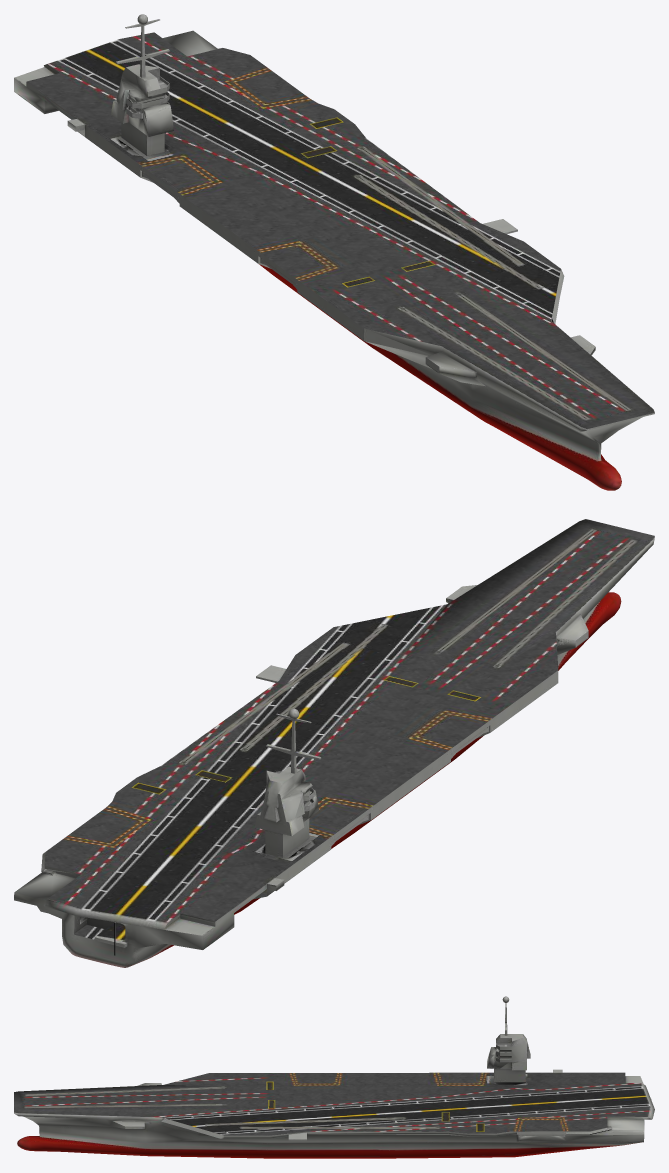
The model's file is realistic-by.76880fe3d732.carrier.glb.
The picture shows the model from 3 angles, top to bottom: view 1: azimuth 30°, elevation 25°; view 2: azimuth 150°, elevation 25°; view 3: azimuth 270°, elevation 25°; orthographic projection. The views are drawn at different scales.
Parts seen in each view (by area): view 1: carrier; view 2: carrier; view 3: carrier.
Boxes of the visible parts, bbox=[...] form: carrier: bbox=[14, 14, 654, 490]; carrier: bbox=[14, 519, 654, 967]; carrier: bbox=[14, 996, 654, 1158].
Bounding box in the file's own units: 84.13 × 74.79 × 333.
1 material, 1 textured.
